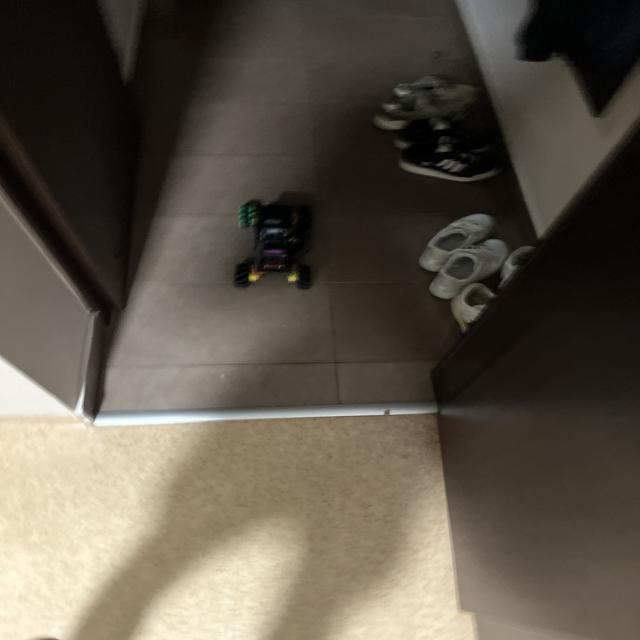robot: (234, 200, 312, 289)
